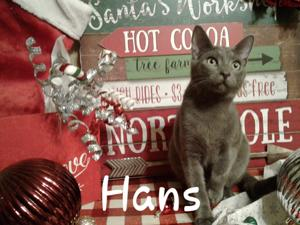rblue: (174, 19, 258, 114)
